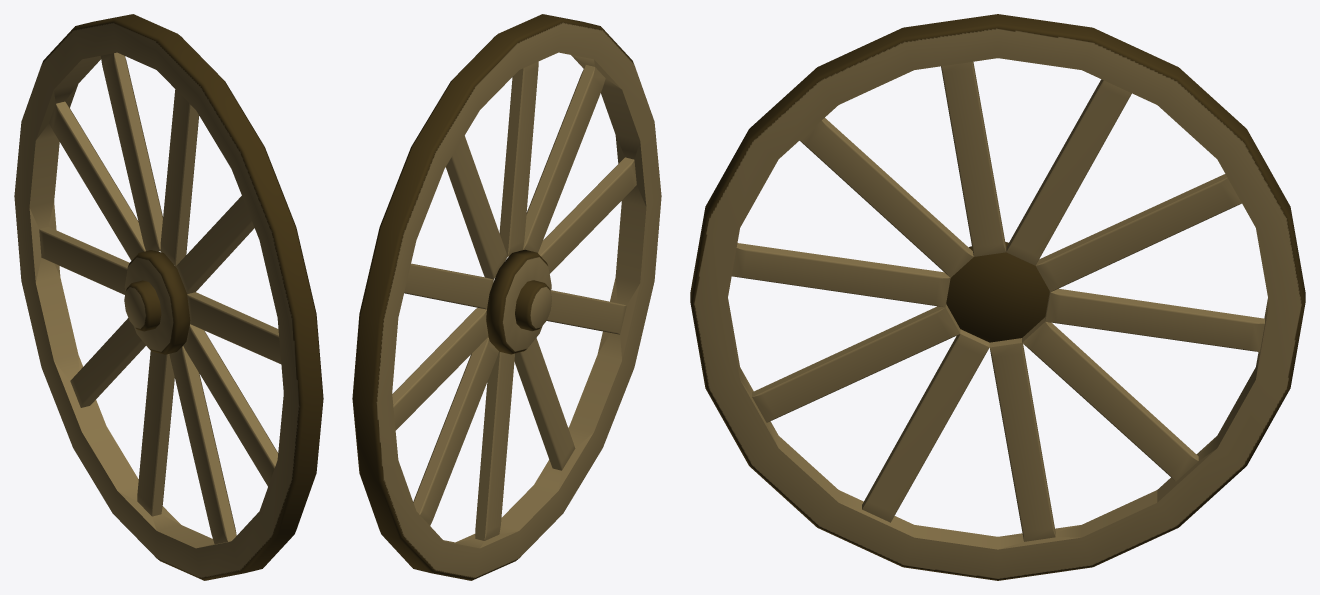
Rendered from mdl_wheel_fr.fbx.
3 views of the same model, side by side, from view 1: azimuth 30°, elevation 25°; view 2: azimuth 150°, elevation 25°; view 3: azimuth 270°, elevation 25° (orthographic). The views are drawn at different scales.
Parts seen in each view (by area): view 1: SM_Wheel_FR; view 2: SM_Wheel_FR; view 3: SM_Wheel_FR.
Part boxes in pixels (box(x1,y1,x2,y2)): SM_Wheel_FR: box(14, 14, 323, 580); SM_Wheel_FR: box(352, 14, 661, 580); SM_Wheel_FR: box(690, 14, 1305, 580).
Size of the model in its own units: 0.0706 by 0.7605 by 0.7605.
1 material, 1 textured.
